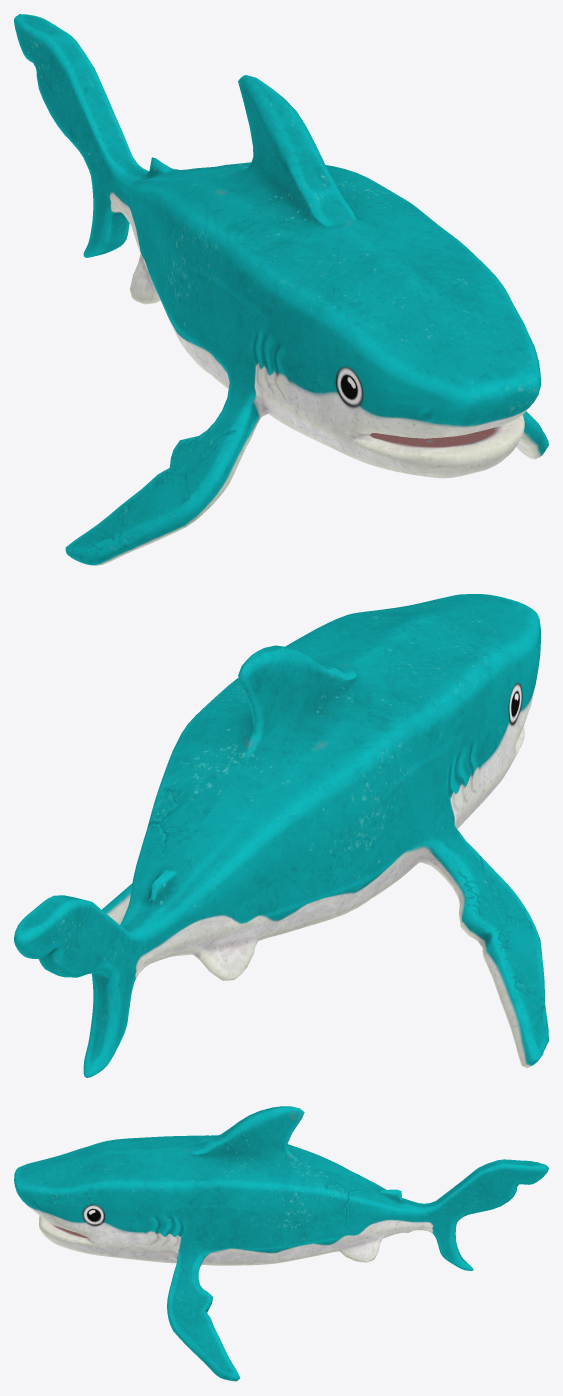
Rendered from shark.glb.
3 views of the same model, one above another, from view 1: azimuth 30°, elevation 25°; view 2: azimuth 150°, elevation 25°; view 3: azimuth 270°, elevation 25° (orthographic). The views are drawn at different scales.
Size of the model in its own units: 8.87 by 7.01 by 15.83.
1 material, 1 textured.
